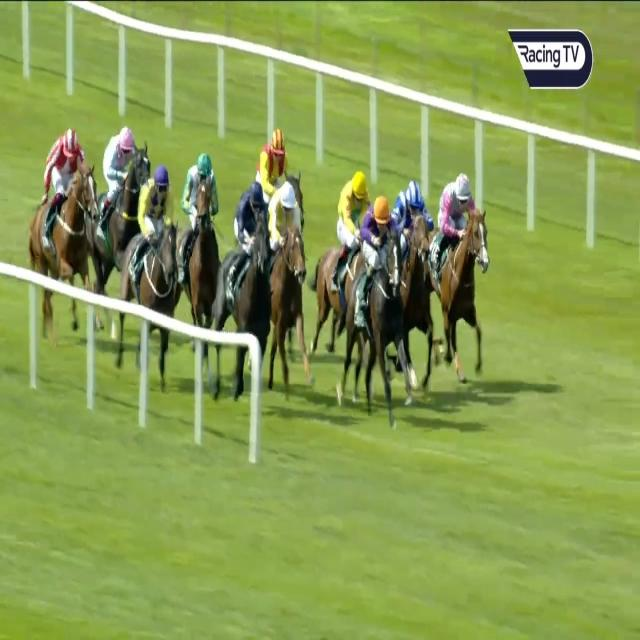horses-racing: (30, 124, 100, 306), (433, 173, 488, 392), (223, 184, 272, 385), (392, 178, 439, 382), (91, 120, 151, 276), (357, 198, 401, 410), (124, 172, 178, 342), (179, 153, 221, 362), (270, 181, 306, 385), (322, 174, 373, 310), (250, 126, 295, 189)
